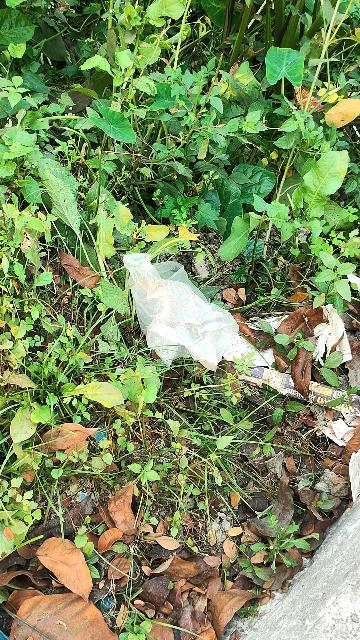polythene: (119, 245, 291, 382)
